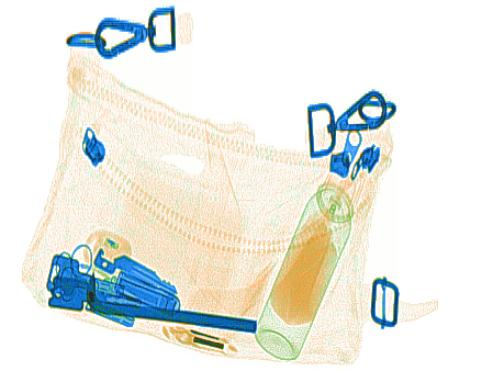pressure: (254, 157, 370, 361)
